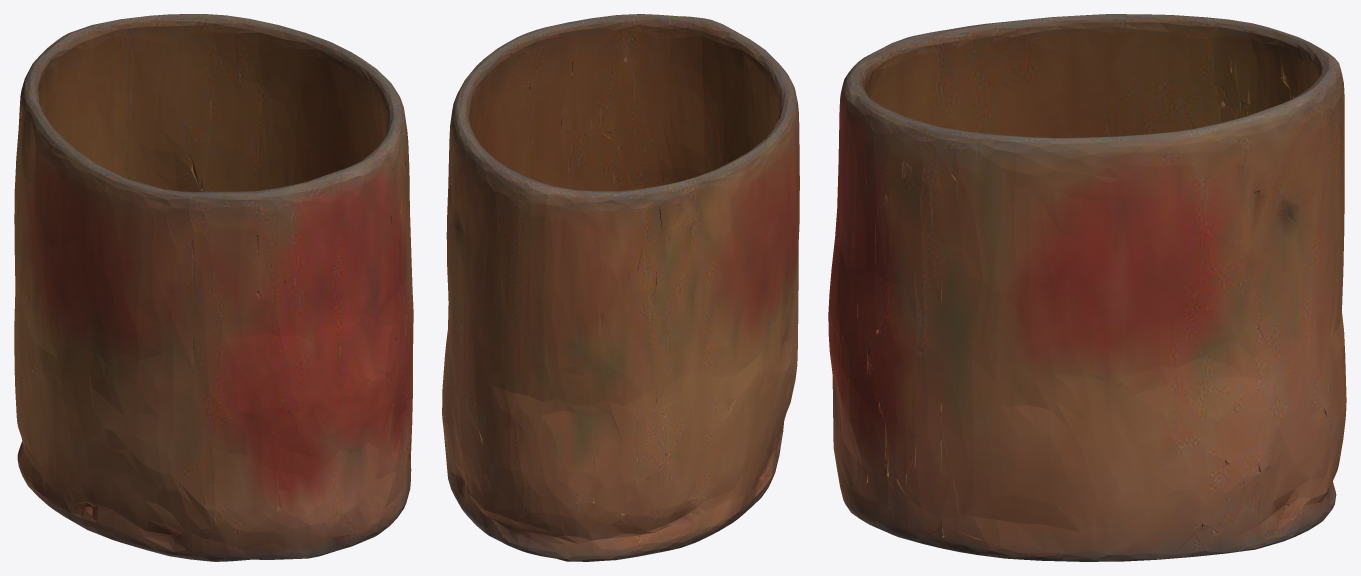
The model's file is yellow_bag_behind_mattress_000.glb.
The picture shows the model from 3 angles, left to right: view 1: azimuth 30°, elevation 25°; view 2: azimuth 150°, elevation 25°; view 3: azimuth 270°, elevation 25°; orthographic projection. The views are drawn at different scales.
Parts seen in each view (by area): view 1: phase2_final_yellow_bag_behind_mattress_000.obj; view 2: phase2_final_yellow_bag_behind_mattress_000.obj; view 3: phase2_final_yellow_bag_behind_mattress_000.obj.
Boxes of the visible parts, x1,y1,x2,y2 form: phase2_final_yellow_bag_behind_mattress_000.obj: [14, 14, 413, 561]; phase2_final_yellow_bag_behind_mattress_000.obj: [442, 14, 799, 561]; phase2_final_yellow_bag_behind_mattress_000.obj: [828, 14, 1346, 561].
Bounding box in the file's own units: 0.2714 × 0.3423 × 0.3598.
1 material, 1 textured.
